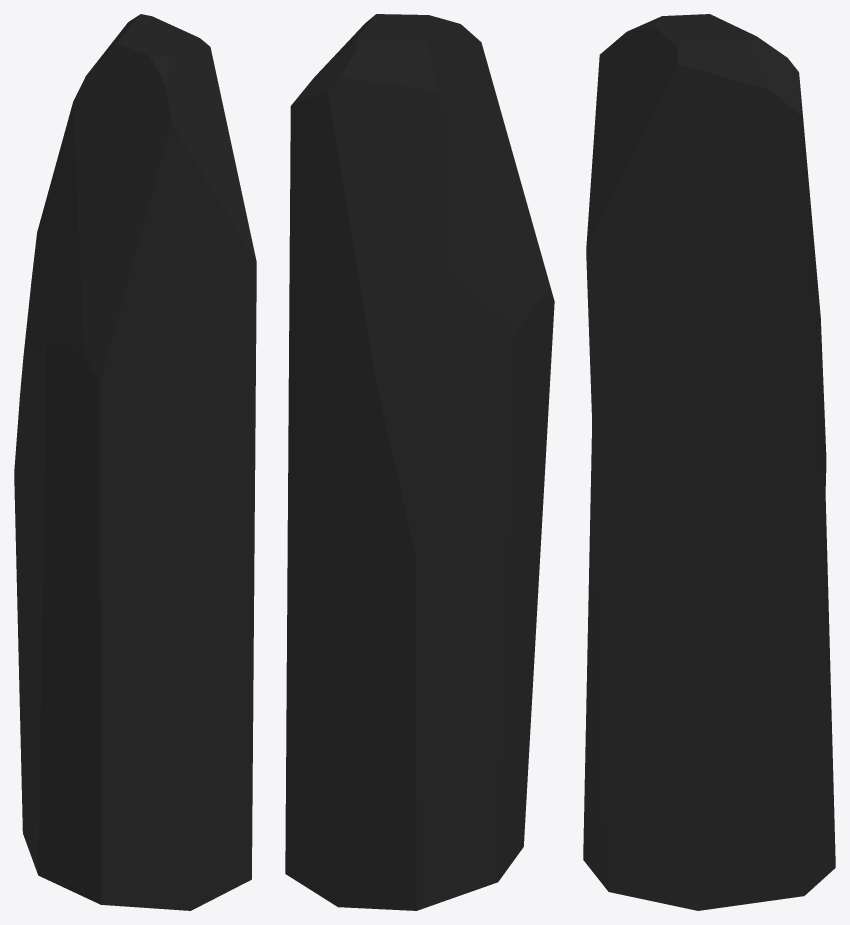
The model's file is mining_PP_Crystal_Single_06_Iron.gltf.
3 renders of one model, left to right at view 1: azimuth 30°, elevation 25°; view 2: azimuth 150°, elevation 25°; view 3: azimuth 270°, elevation 25°, orthographic.
Parts seen in each view (by area): view 1: PP_Crystal_Single_06_Iron; view 2: PP_Crystal_Single_06_Iron; view 3: PP_Crystal_Single_06_Iron.
Part boxes in pixels (bbox=[...]): PP_Crystal_Single_06_Iron: bbox=[14, 14, 256, 910]; PP_Crystal_Single_06_Iron: bbox=[285, 14, 554, 910]; PP_Crystal_Single_06_Iron: bbox=[583, 14, 835, 910].
Bounding box in the file's own units: 0.1286 × 0.5549 × 0.1496.
1 material, 1 textured.
